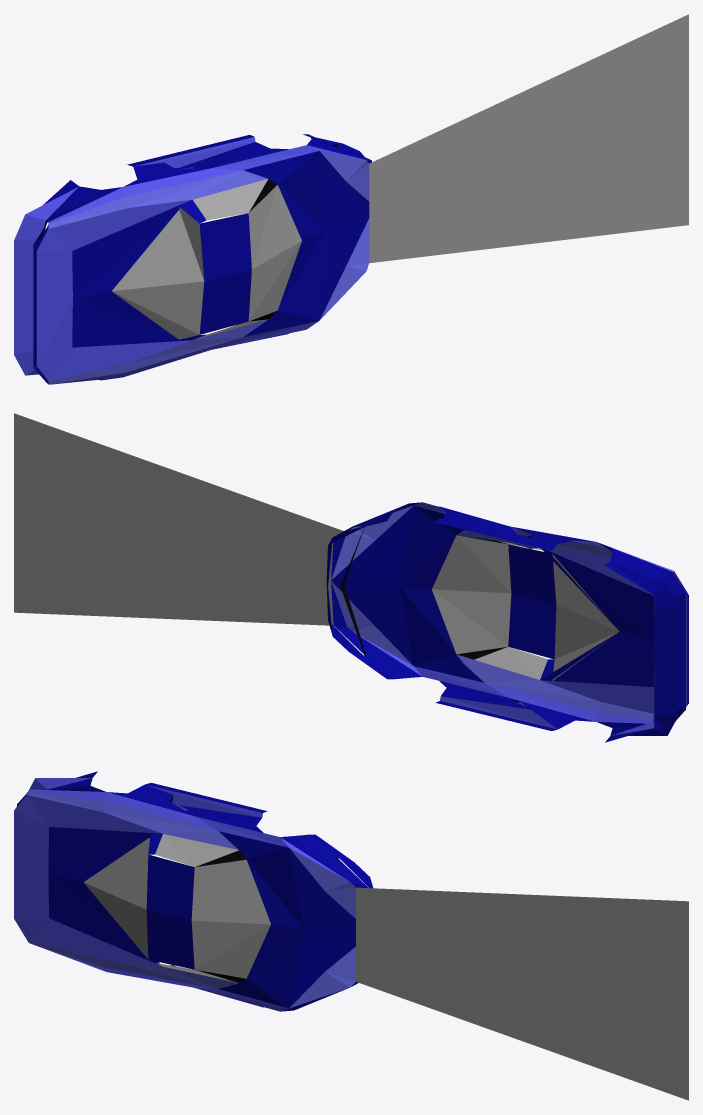
File: cars_2.obj
3 renders of one model, top to bottom at view 1: azimuth 30°, elevation 25°; view 2: azimuth 150°, elevation 25°; view 3: azimuth 330°, elevation 25°, orthographic. The views are drawn at different scales.
Size of the model in its own units: 4.92 by 1.44 by 0.55.
